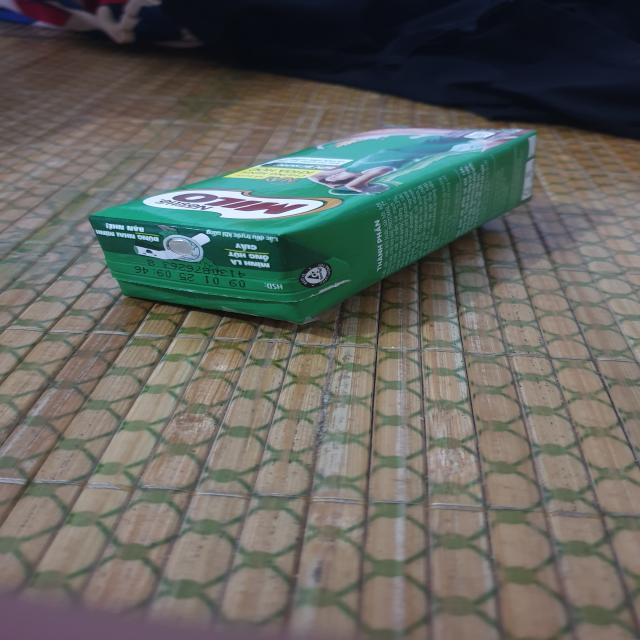Milo: (84, 127, 542, 329)
